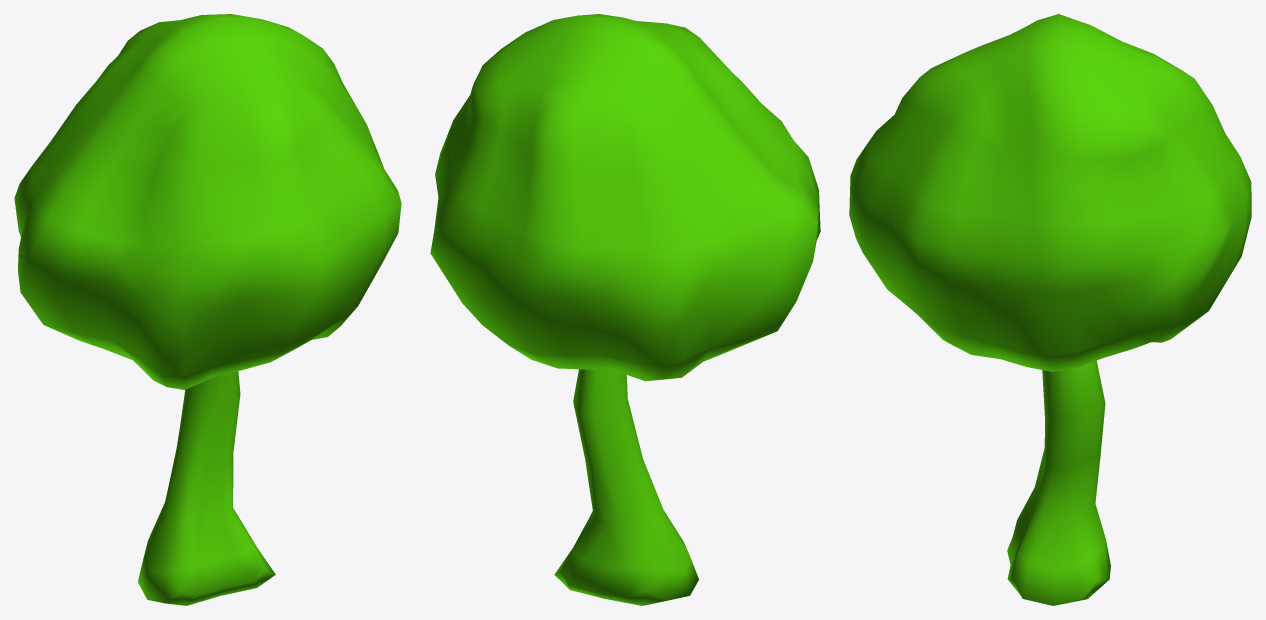
Rendered from Tree_test.fbx.
3 views of the same model, side by side, from view 1: azimuth 30°, elevation 25°; view 2: azimuth 150°, elevation 25°; view 3: azimuth 270°, elevation 25° (orthographic).
Visible parts, largest first — view 1: Tree_LowPoly1; view 2: Tree_LowPoly1; view 3: Tree_LowPoly1.
Part boxes in pixels (bbox=[...]): Tree_LowPoly1: bbox=[14, 14, 401, 605]; Tree_LowPoly1: bbox=[430, 14, 820, 605]; Tree_LowPoly1: bbox=[849, 14, 1251, 605].
Size of the model in its own units: 120 by 183 by 117.
